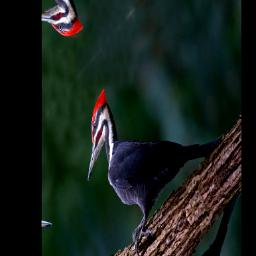Woodpecker: (70, 0, 236, 256)
